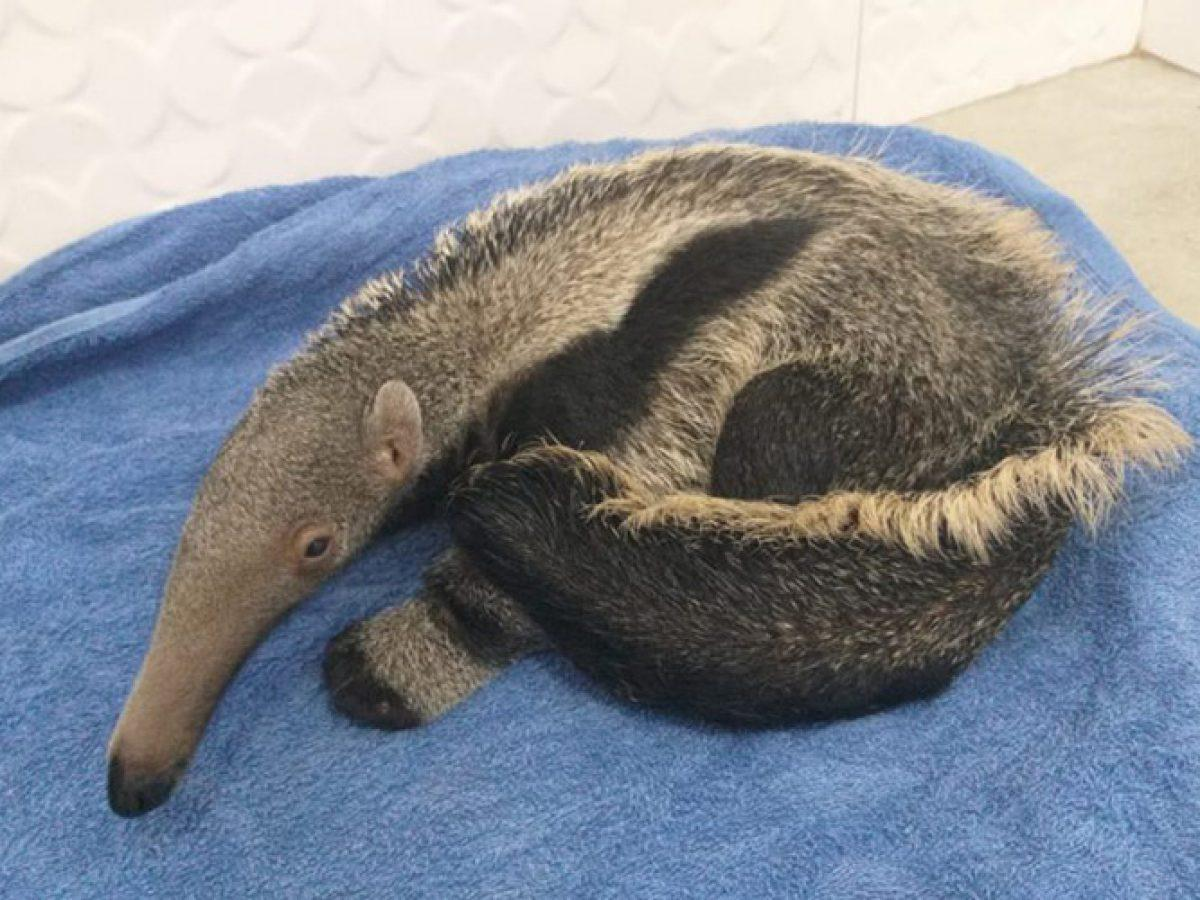TamanduaBandeira: (96, 129, 1163, 822)
